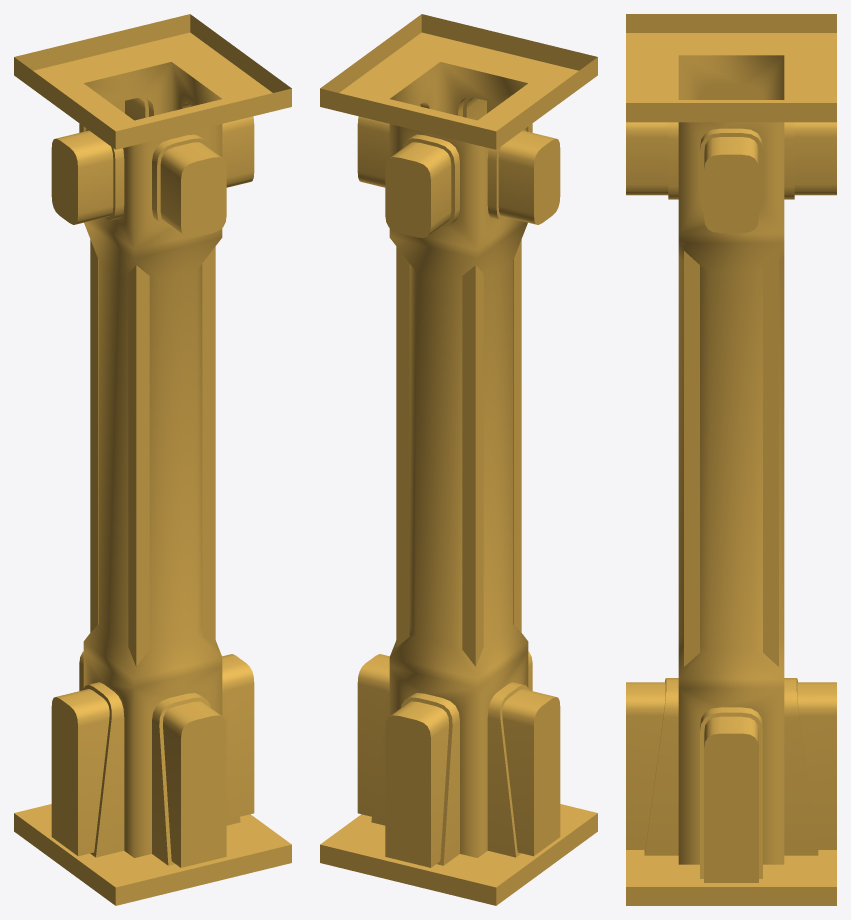
Rendered from Column_A_4m.FBX.
3 views of the same model, side by side, from view 1: azimuth 30°, elevation 25°; view 2: azimuth 150°, elevation 25°; view 3: azimuth 270°, elevation 25° (orthographic). The views are drawn at different scales.
Parts seen in each view (by area): view 1: Column_A_4m; view 2: Column_A_4m; view 3: Column_A_4m.
Boxes of the visible parts, x1,y1,x2,y2 form: Column_A_4m: (14, 14, 291, 905); Column_A_4m: (320, 14, 597, 905); Column_A_4m: (626, 14, 836, 905).
Size of the model in its own units: 100 by 420 by 100.
